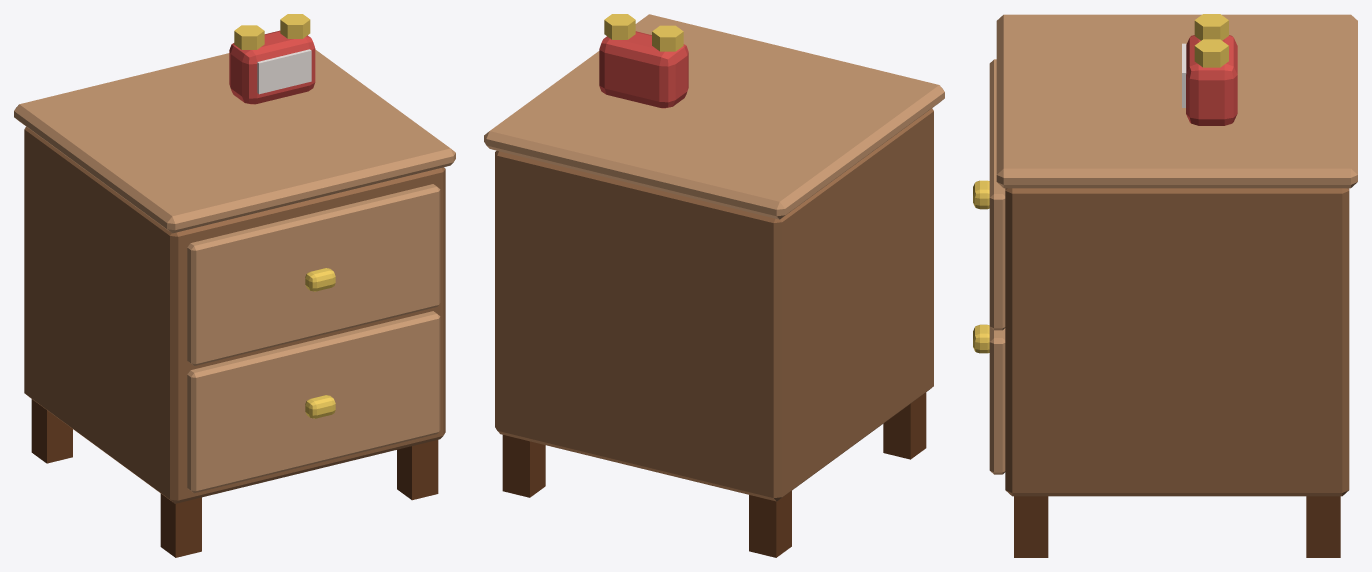
The model's file is nightstand.glb.
3 renders of one model, left to right at view 1: azimuth 30°, elevation 25°; view 2: azimuth 150°, elevation 25°; view 3: azimuth 270°, elevation 25°, orthographic. The views are drawn at different scales.
Visible parts, largest first — view 1: nightstand; view 2: nightstand; view 3: nightstand.
Part boxes in pixels (<box>): nightstand: <box>14,14,455,557</box>; nightstand: <box>484,14,944,557</box>; nightstand: <box>973,14,1357,557</box>.
Size of the model in its own units: 0.44 by 0.6175 by 0.4475.
Materials: 1 (1 with a texture image).
